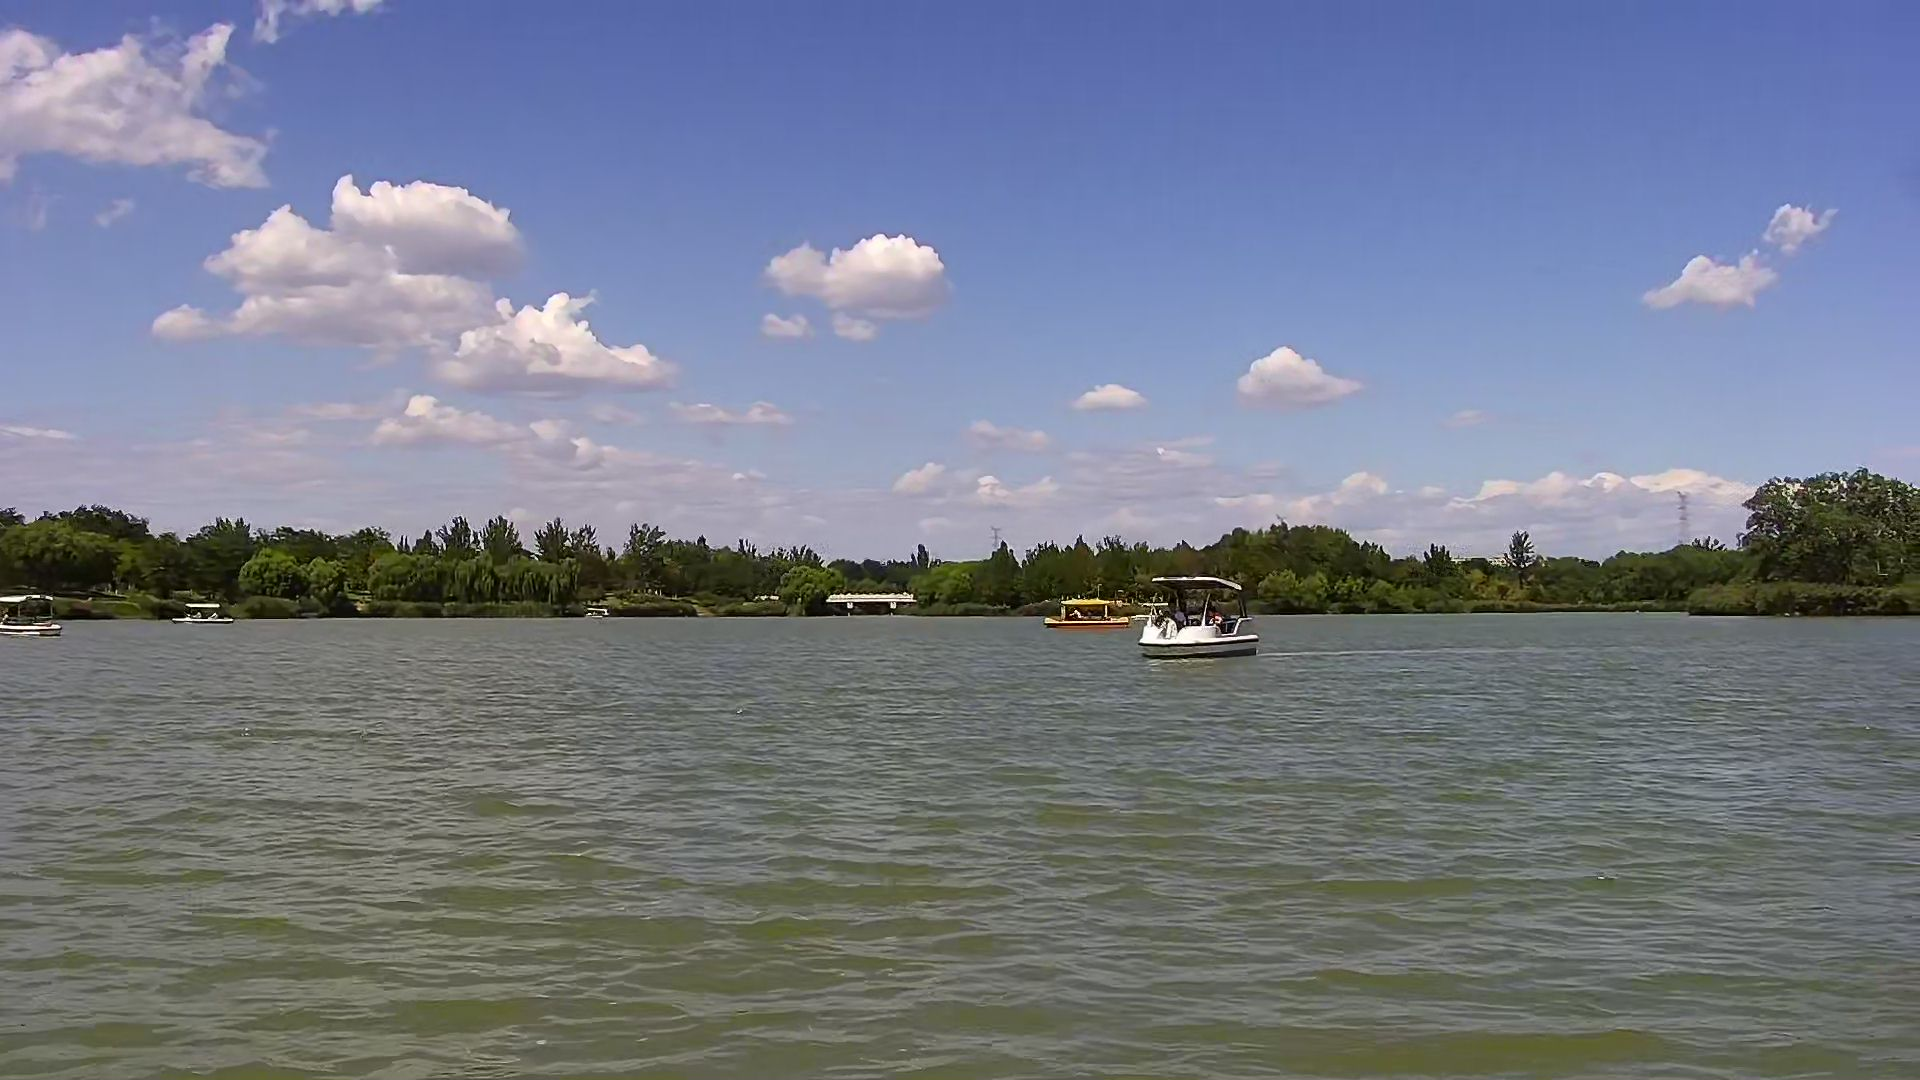boat: (1145, 564, 1262, 662), (1040, 587, 1135, 632), (4, 587, 67, 636), (167, 592, 240, 630)
bridge: (828, 589, 919, 622)
